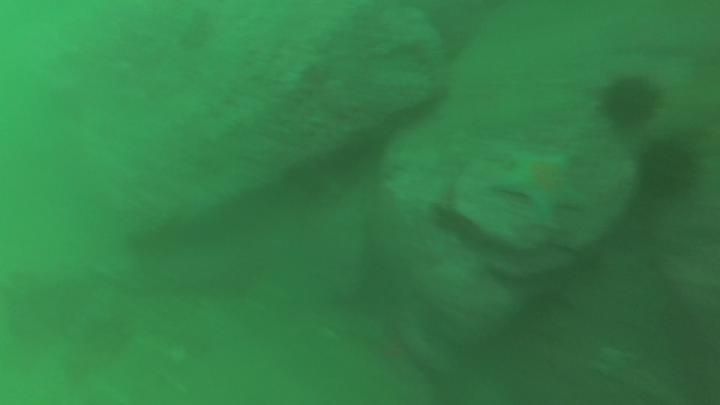echinus: (634, 135, 703, 201), (596, 72, 664, 132)
starfish: (490, 143, 590, 228)
